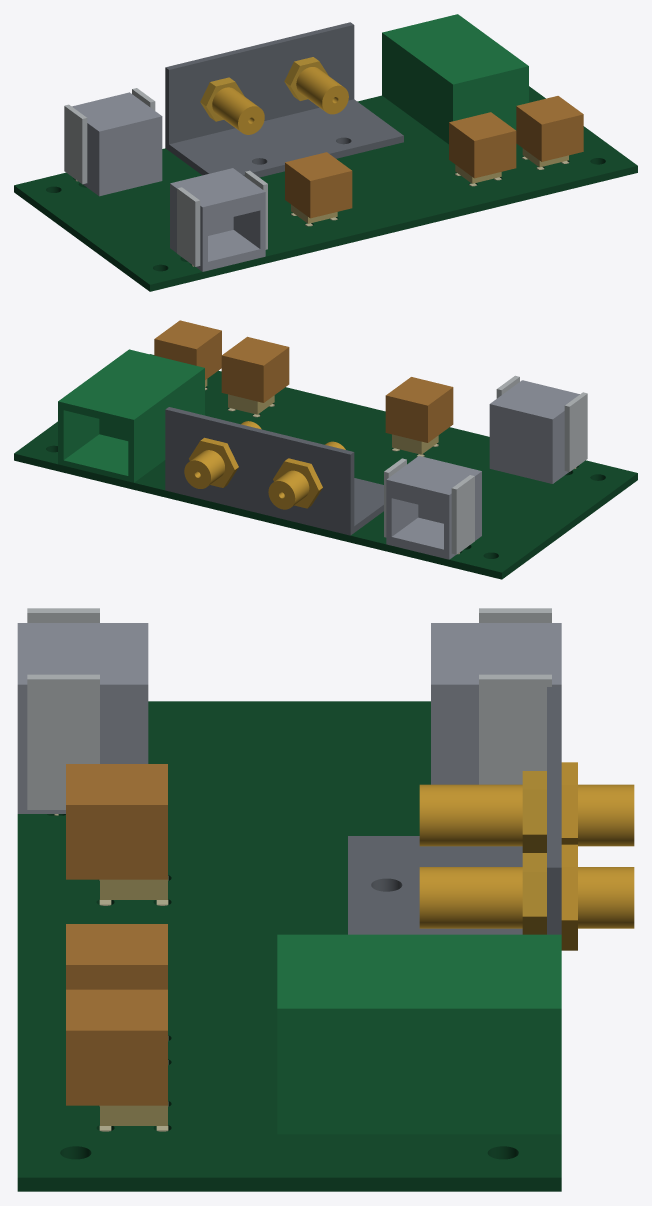
Rendered from base-rear-interface01-local.glb.
3 renders of one model, top to bottom at view 1: azimuth 30°, elevation 25°; view 2: azimuth 150°, elevation 25°; view 3: azimuth 270°, elevation 25°, orthographic. The views are drawn at different scales.
Parts seen in each view (by area): view 1: BRI01_PCB, BRI01_COAX_LEDGE, J3_header_reference, J1_shell_reference, J2_shell_reference, J4_lug_nut_reservation, J6_lug_nut_reservation, J5_lug_nut_reservation, J1_spring_reservation_7.5, J2_spring_reservation_-8.65, X1_132170_reference, X2_132170_reference (+2 smaller); view 2: BRI01_PCB, BRI01_COAX_LEDGE, J3_header_reference, J2_shell_reference, J1_shell_reference, J5_lug_nut_reservation, J6_lug_nut_reservation, J4_lug_nut_reservation, J1_spring_reservation_7.5, J2_spring_reservation_-8.65, X1_132170_reference, X2_132170_reference (+5 smaller); view 3: BRI01_PCB, J3_header_reference, BRI01_COAX_LEDGE, J2_shell_reference, J1_shell_reference, J4_lug_nut_reservation, J6_lug_nut_reservation, X1_132170_reference, X2_132170_reference, J2_spring_reservation_7.5, J1_spring_reservation_-8.65, J5_lug_nut_reservation (+8 smaller).
Part boxes in pixels (left/top/right/bottom): BRI01_PCB: left=14, top=86, right=637, bottom=291; BRI01_COAX_LEDGE: left=165, top=22, right=403, bottom=177; J3_header_reference: left=382, top=14, right=528, bottom=144; J1_shell_reference: left=72, top=92, right=162, bottom=196; J2_shell_reference: left=170, top=168, right=265, bottom=271; J4_lug_nut_reservation: left=516, top=96, right=583, bottom=161; J6_lug_nut_reservation: left=285, top=152, right=352, bottom=218; J5_lug_nut_reservation: left=449, top=112, right=516, bottom=178; J1_spring_reservation_7.5: left=64, top=104, right=87, bottom=184; J2_spring_reservation_-8.65: left=177, top=187, right=200, bottom=266; X1_132170_reference: left=212, top=87, right=264, bottom=134; X2_132170_reference: left=296, top=67, right=348, bottom=114; BRI01_PCB: left=14, top=354, right=637, bottom=579; BRI01_COAX_LEDGE: left=165, top=407, right=383, bottom=535; J3_header_reference: left=58, top=349, right=204, bottom=482; J2_shell_reference: left=489, top=380, right=579, bottom=483; J1_shell_reference: left=386, top=456, right=481, bottom=559; J5_lug_nut_reservation: left=221, top=336, right=289, bottom=402; J6_lug_nut_reservation: left=385, top=377, right=453, bottom=442; J4_lug_nut_reservation: left=154, top=320, right=221, bottom=379; J1_spring_reservation_7.5: left=451, top=475, right=474, bottom=554; J2_spring_reservation_-8.65: left=564, top=392, right=587, bottom=471; X1_132170_reference: left=268, top=441, right=345, bottom=509; X2_132170_reference: left=184, top=421, right=261, bottom=488; BRI01_PCB: left=17, top=701, right=561, bottom=1191; J3_header_reference: left=277, top=934, right=561, bottom=1134; BRI01_COAX_LEDGE: left=348, top=687, right=561, bottom=934; J2_shell_reference: left=17, top=623, right=148, bottom=813; J1_shell_reference: left=431, top=623, right=561, bottom=784; J4_lug_nut_reservation: left=66, top=989, right=167, bottom=1105; J6_lug_nut_reservation: left=66, top=764, right=167, bottom=879; X1_132170_reference: left=419, top=784, right=634, bottom=846; X2_132170_reference: left=419, top=867, right=634, bottom=928; J2_spring_reservation_7.5: left=27, top=674, right=99, bottom=809; J1_spring_reservation_-8.65: left=479, top=674, right=551, bottom=784; J5_lug_nut_reservation: left=66, top=924, right=167, bottom=989.
Bounding box in the file's own units: 116 × 23.4 × 63.5.
